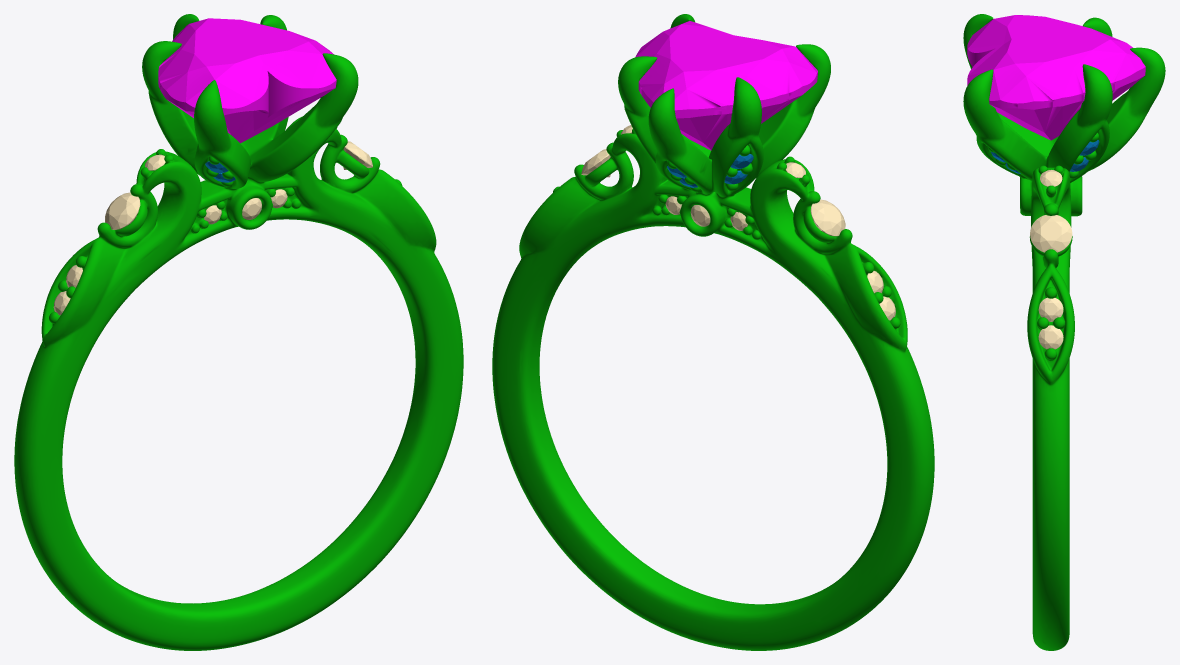
The model's file is BE1D8282_HT_200ct_RENDER.glb.
3 views of the same model, side by side, from view 1: azimuth 30°, elevation 25°; view 2: azimuth 150°, elevation 25°; view 3: azimuth 270°, elevation 25° (orthographic). The views are drawn at different scales.
Visible parts, largest first — view 1: Metal 01, CS_Diamond_Heart, Diamond_Round_Gem_SH.010; view 2: Metal 01, CS_Diamond_Heart, Diamond_Round_Gem_SH.010; view 3: Metal 01, CS_Diamond_Heart, Diamond_Round_Gem_SH.009, Diamond_Round_Gem_SH.007, Diamond_Round_Gem_SH.006, Diamond_Round_Gem_SH.008.
Boxes of the visible parts, box(x1,y1,x2,y2) form: Metal 01: box(14, 14, 463, 650); CS_Diamond_Heart: box(158, 18, 336, 143); Diamond_Round_Gem_SH.010: box(105, 192, 140, 229); Metal 01: box(492, 14, 934, 650); CS_Diamond_Heart: box(635, 21, 817, 150); Diamond_Round_Gem_SH.010: box(810, 199, 845, 236); Metal 01: box(963, 14, 1165, 650); CS_Diamond_Heart: box(967, 15, 1145, 140); Diamond_Round_Gem_SH.009: box(1030, 215, 1072, 252); Diamond_Round_Gem_SH.007: box(1038, 325, 1063, 349); Diamond_Round_Gem_SH.006: box(1038, 297, 1063, 321); Diamond_Round_Gem_SH.008: box(1040, 170, 1062, 186).
Bounding box in the file's own units: 20.09 × 26.14 × 8.14.
